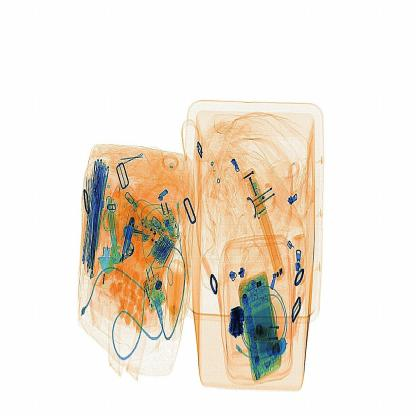scissors: (222, 289, 248, 349)
